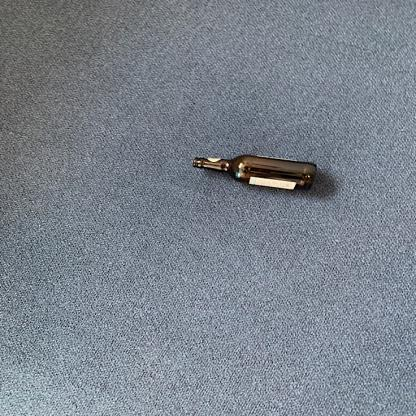trash: (193, 147, 321, 198)
